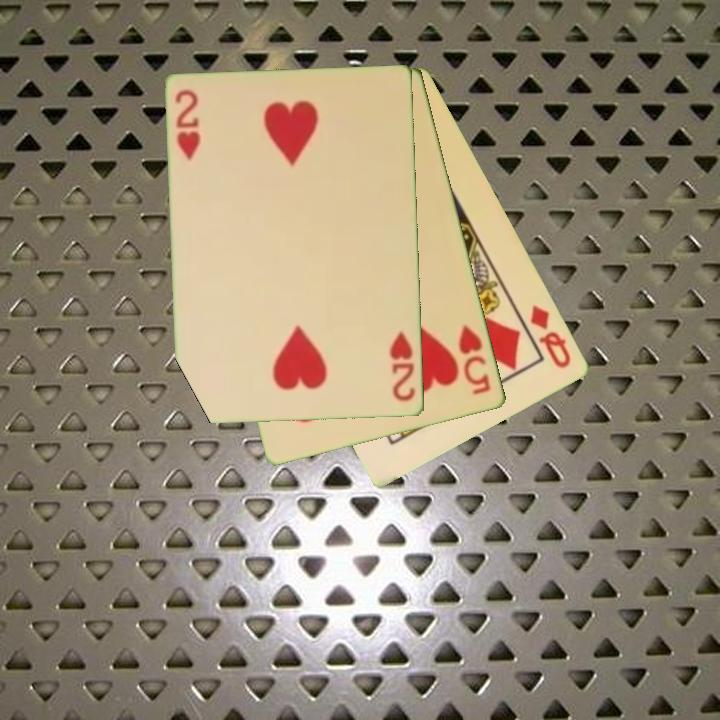2h: (172, 86, 204, 163), (387, 327, 418, 404)
5h: (455, 321, 494, 398)
Qd: (527, 301, 575, 372)
